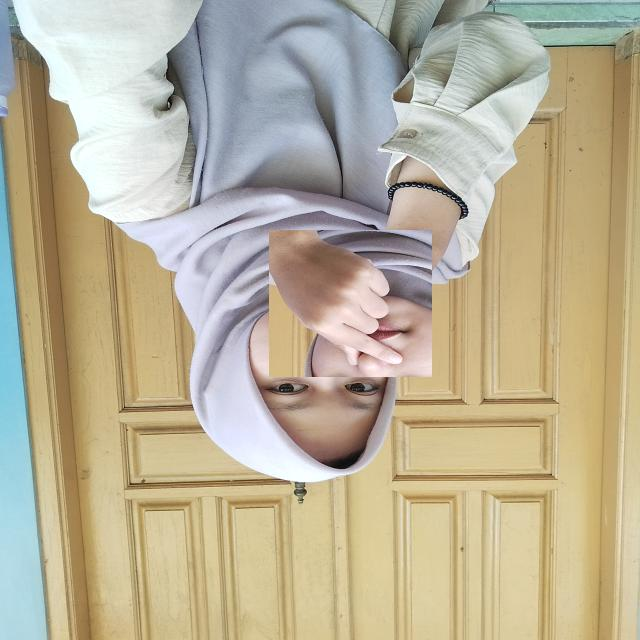bau: (269, 230, 432, 377)
